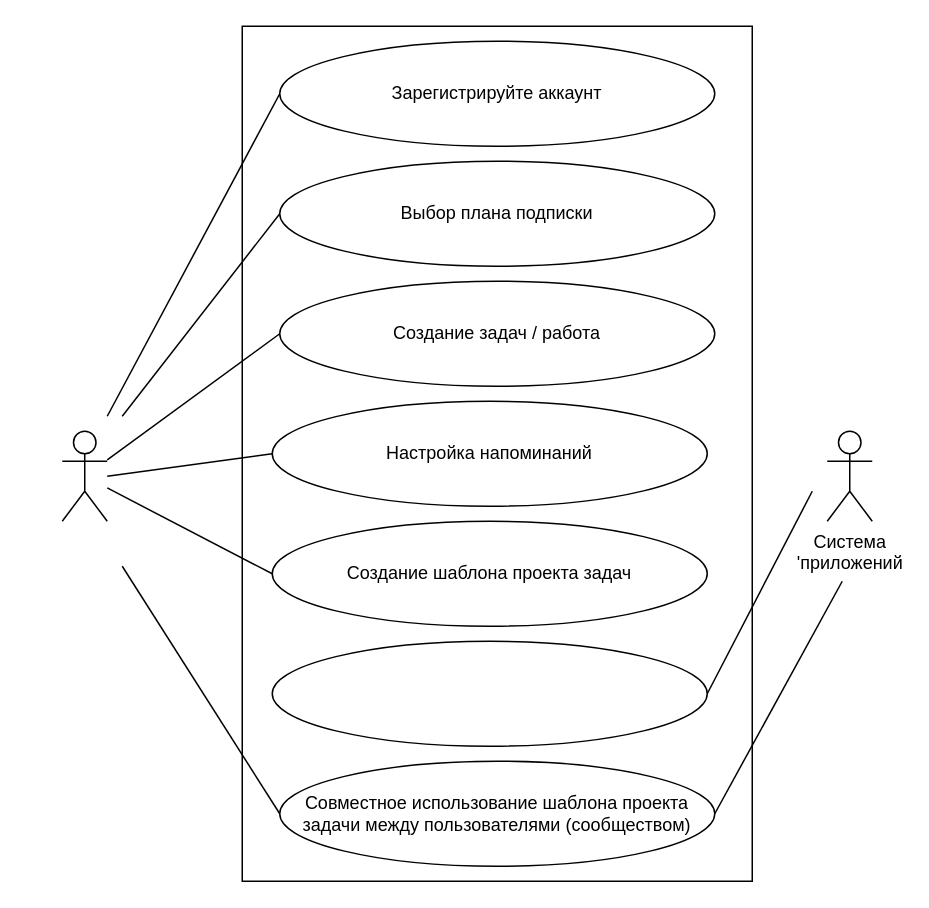
This 929x908 diagram has some shape labels left out. The shapes that lost their labels are listed below. From the top down, each one's centre as x and y in pixels, then its label:
At [84,475]: "Пользователь".
At [489,693]: "синхронизация между устройствами клиента".
